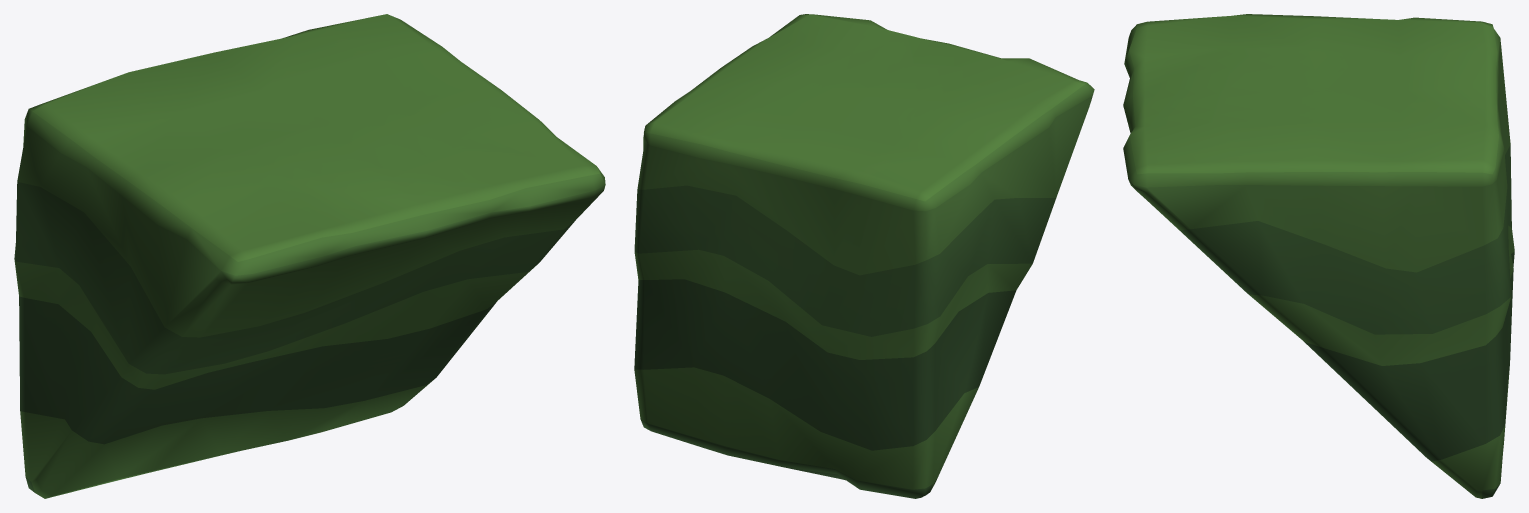
The model's file is SwampGrass_SlopeUnder.fbx.
3 renders of one model, left to right at view 1: azimuth 30°, elevation 25°; view 2: azimuth 150°, elevation 25°; view 3: azimuth 270°, elevation 25°, orthographic. The views are drawn at different scales.
Parts seen in each view (by area): view 1: SwampGrass_SlopeUnder_LOD0; view 2: SwampGrass_SlopeUnder_LOD0; view 3: SwampGrass_SlopeUnder_LOD0.
Part boxes in pixels (<box>): SwampGrass_SlopeUnder_LOD0: <box>14,14,605,498</box>; SwampGrass_SlopeUnder_LOD0: <box>634,14,1094,498</box>; SwampGrass_SlopeUnder_LOD0: <box>1123,14,1514,498</box>.
Size of what is drawn, in the model's own units: 1.13 by 1.08 by 1.1.
